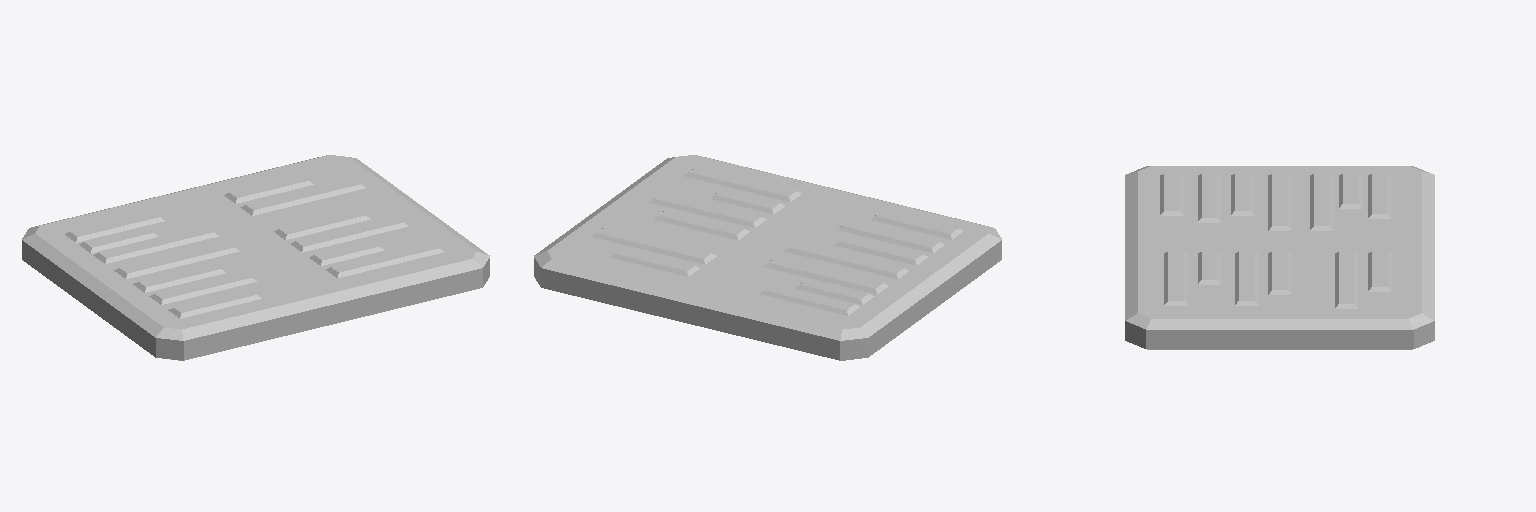
File: newspaper.obj
3 renders of one model, left to right at view 1: azimuth 30°, elevation 25°; view 2: azimuth 150°, elevation 25°; view 3: azimuth 270°, elevation 25°, orthographic.
Parts seen in each view (by area): view 1: newspaper; view 2: newspaper; view 3: newspaper.
Part boxes in pixels (x1,y1,x2,y2): newspaper: (22,155,489,360); newspaper: (534,155,1001,360); newspaper: (1125,166,1434,349).
Bounding box in the file's own units: 1 × 0.1 × 0.8.